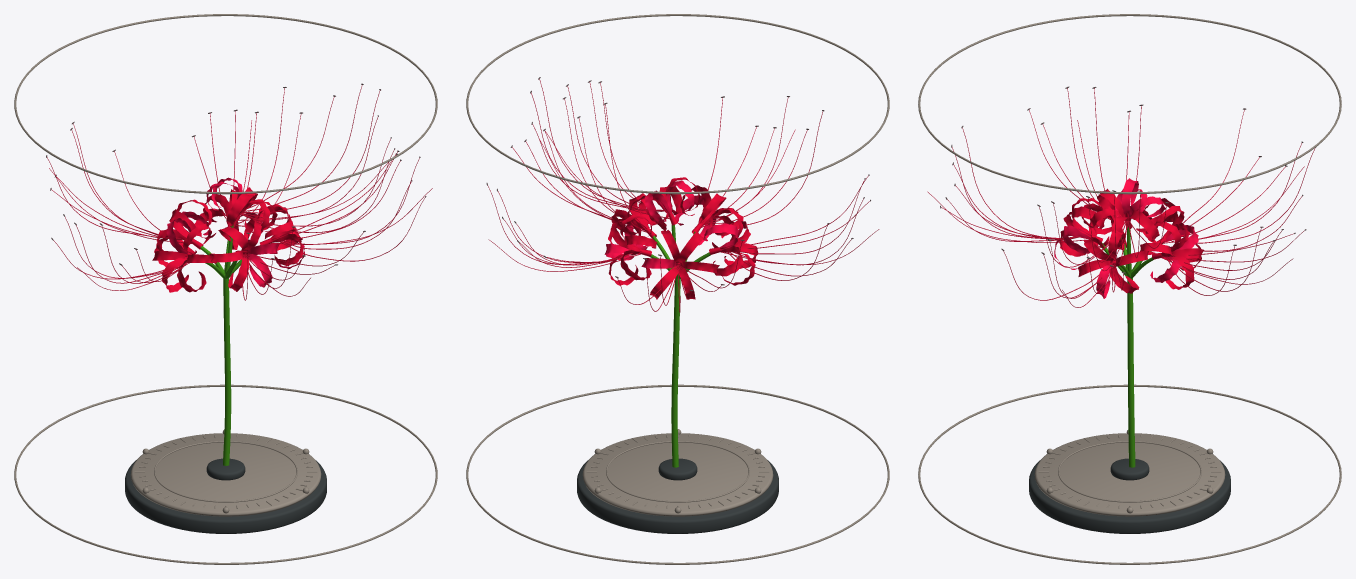
Rendered from lycoris-distant.glb.
The picture shows the model from 3 angles, left to right: view 1: azimuth 30°, elevation 25°; view 2: azimuth 150°, elevation 25°; view 3: azimuth 270°, elevation 25°; orthographic projection.
Visible parts, largest first — view 1: base__Brushed_Champagne, petals__Vermilion_Petals, stamens__Crimson_Filaments, chamber__Brushed_Champagne, base__Graphite_Titanium, petals__Scarlet_Edge, stem__Living_Green_Scape; view 2: base__Brushed_Champagne, petals__Vermilion_Petals, stamens__Crimson_Filaments, chamber__Brushed_Champagne, base__Graphite_Titanium, petals__Scarlet_Edge, stem__Living_Green_Scape; view 3: base__Brushed_Champagne, petals__Vermilion_Petals, stamens__Crimson_Filaments, chamber__Brushed_Champagne, base__Graphite_Titanium, petals__Scarlet_Edge, stem__Living_Green_Scape.
Boxes of the visible parts, x1,y1,x2,y2 form: base__Brushed_Champagne: (130, 430, 321, 516); petals__Vermilion_Petals: (152, 187, 303, 292); stamens__Crimson_Filaments: (47, 85, 432, 300); chamber__Brushed_Champagne: (14, 14, 437, 564); base__Graphite_Titanium: (125, 458, 326, 533); petals__Scarlet_Edge: (166, 177, 304, 287); stem__Living_Green_Scape: (223, 277, 231, 465); base__Brushed_Champagne: (582, 429, 773, 516); petals__Vermilion_Petals: (608, 177, 758, 299); stamens__Crimson_Filaments: (487, 79, 879, 312); chamber__Brushed_Champagne: (466, 14, 889, 564); base__Graphite_Titanium: (577, 458, 778, 533); petals__Scarlet_Edge: (604, 180, 739, 268); stem__Living_Green_Scape: (671, 278, 680, 467); base__Brushed_Champagne: (1034, 430, 1225, 516); petals__Vermilion_Petals: (1059, 188, 1204, 293); stamens__Crimson_Filaments: (927, 88, 1315, 307); chamber__Brushed_Champagne: (918, 14, 1341, 564); base__Graphite_Titanium: (1029, 458, 1230, 533); petals__Scarlet_Edge: (1054, 178, 1198, 298); stem__Living_Green_Scape: (1127, 278, 1135, 467).
Size of what is drawn, in the model's own units: 4.4 by 4.46 by 4.4.
